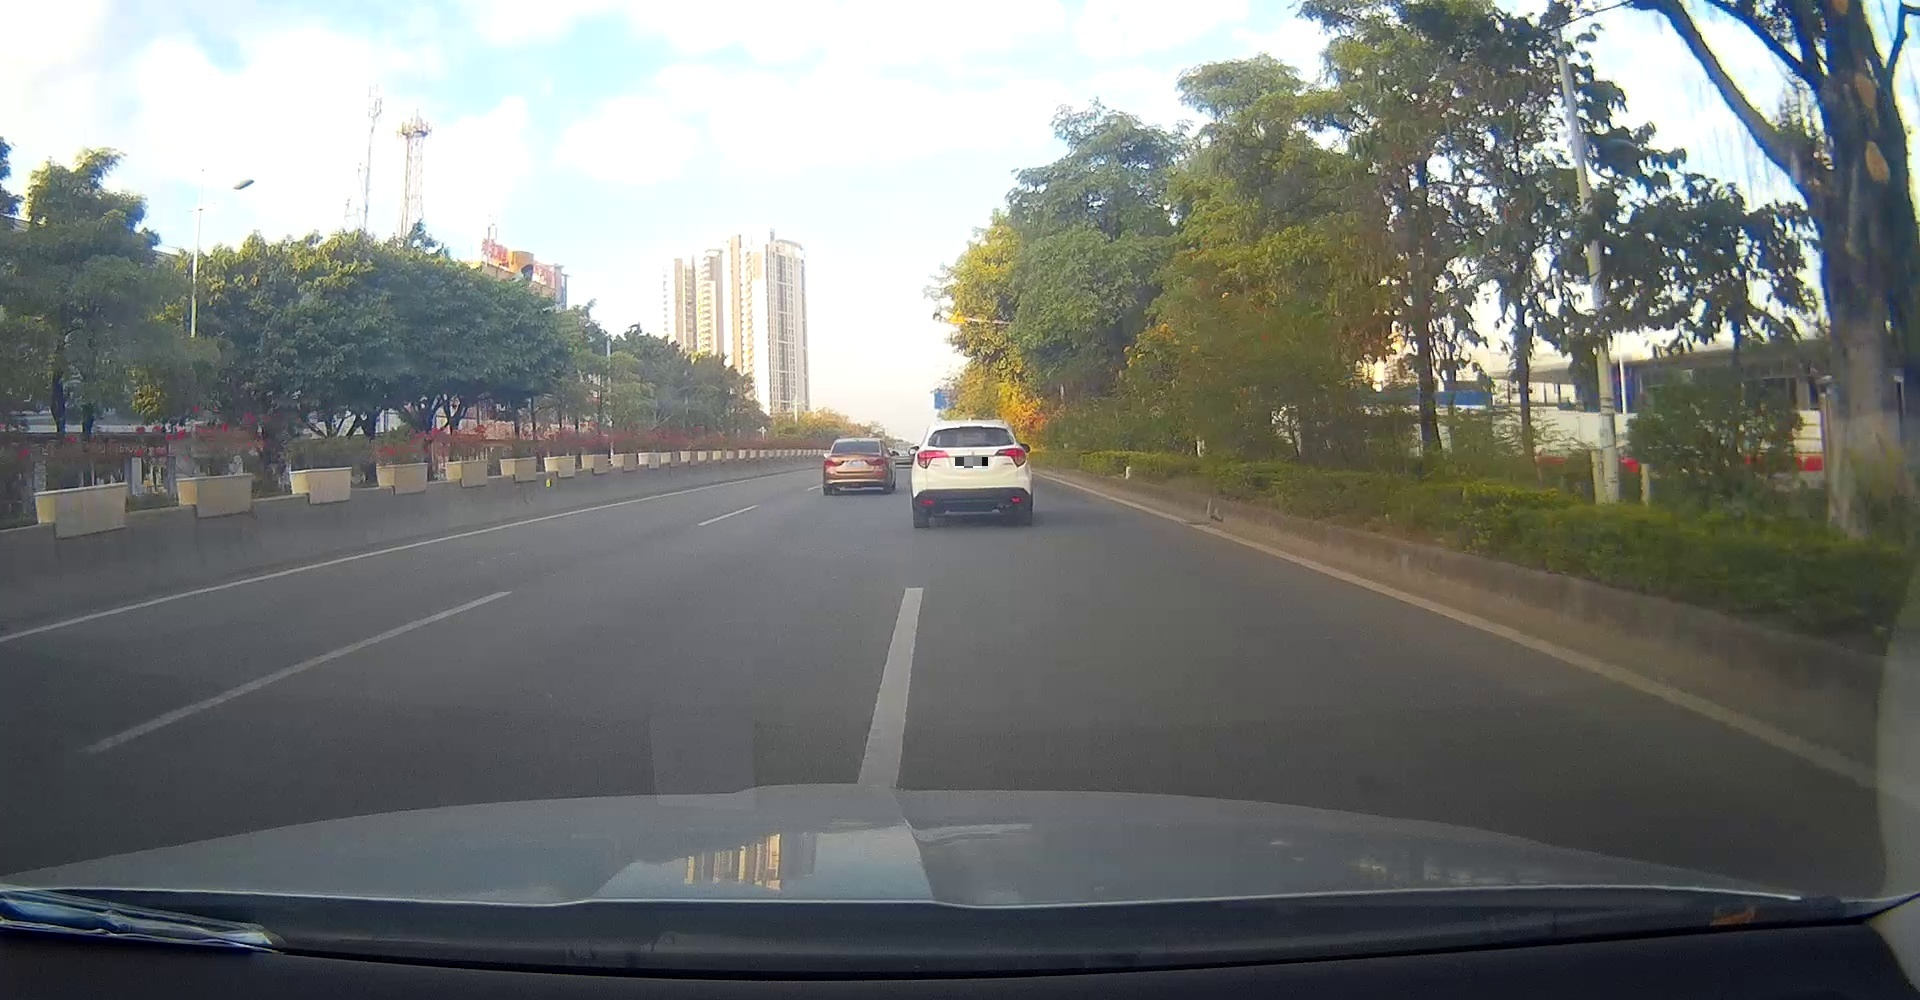L_light: (917, 449, 949, 468), (823, 457, 842, 464)
R_light: (996, 447, 1027, 467), (865, 456, 885, 464)
T_light: (961, 426, 983, 430), (855, 442, 863, 444)
day-no: (910, 420, 1034, 527), (822, 437, 889, 492)
plate_1: (955, 457, 988, 468)
